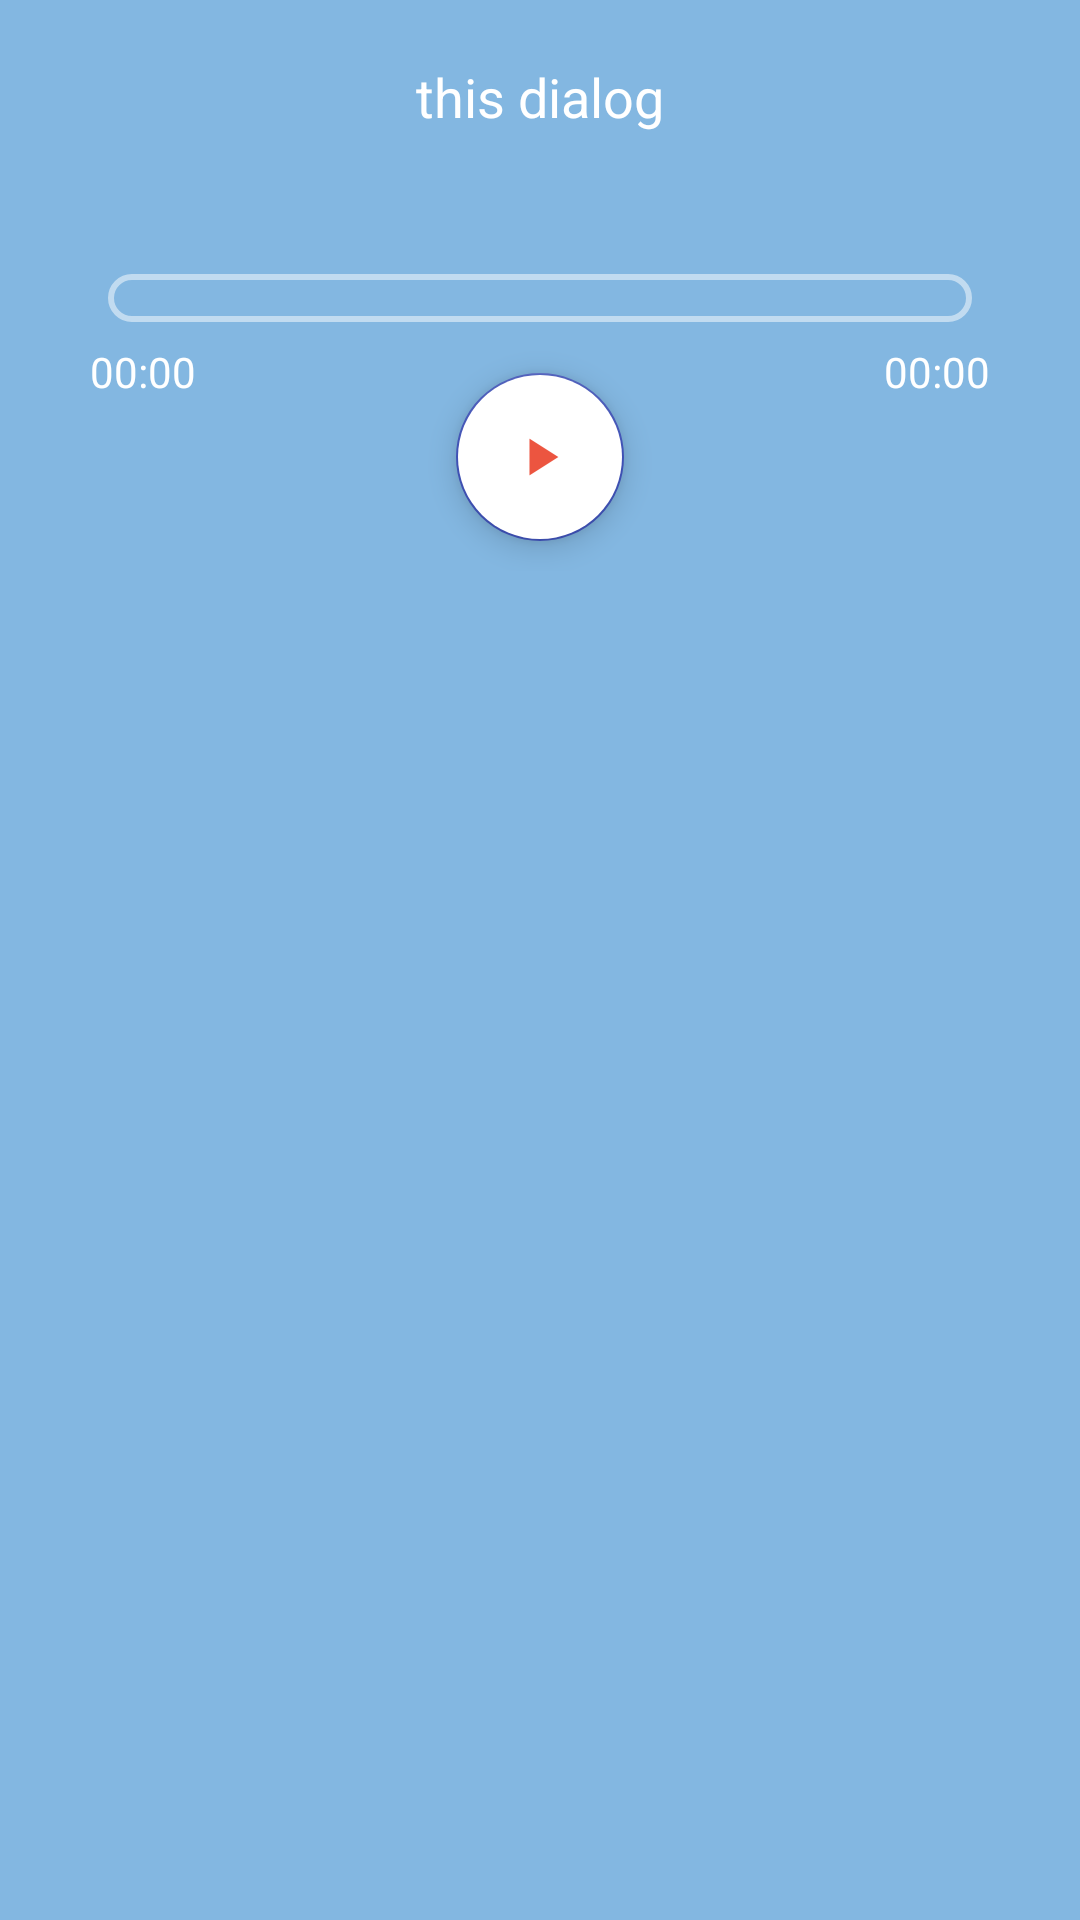

Icons on this 1080 x 1920 Android screen, each with the point to tap as (x=x, y=y):
play: (x=540, y=457)
